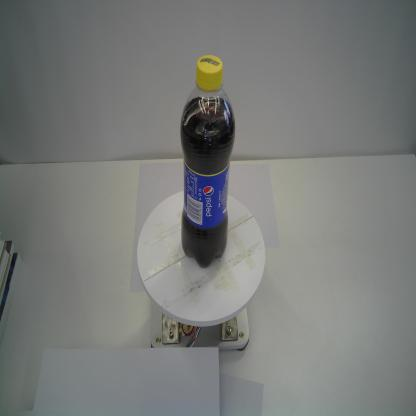Drink: (179, 54, 236, 268)
